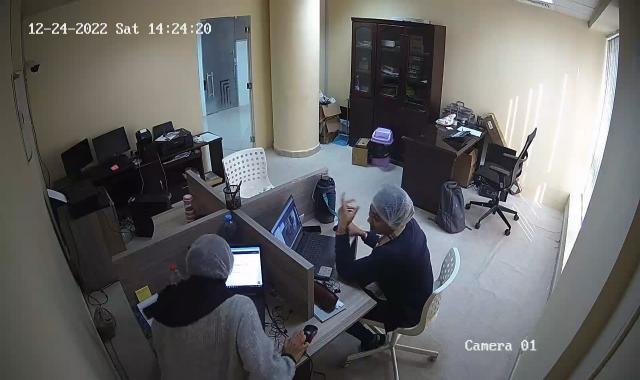hairnet: (184, 232, 236, 284), (369, 184, 415, 233)
